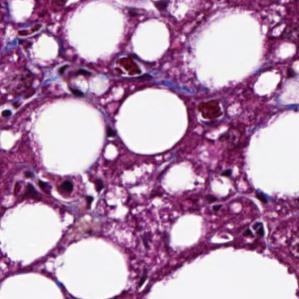inflammation: (6, 165, 77, 204), (104, 54, 147, 80), (192, 95, 228, 126), (238, 218, 271, 244)
